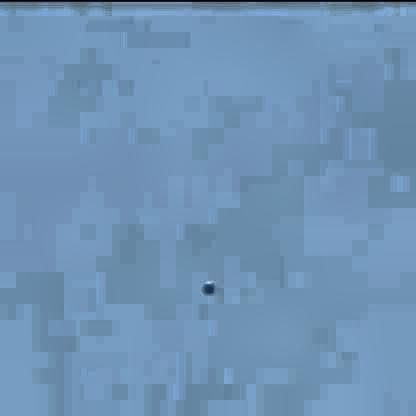golfball: (200, 277, 213, 293)
